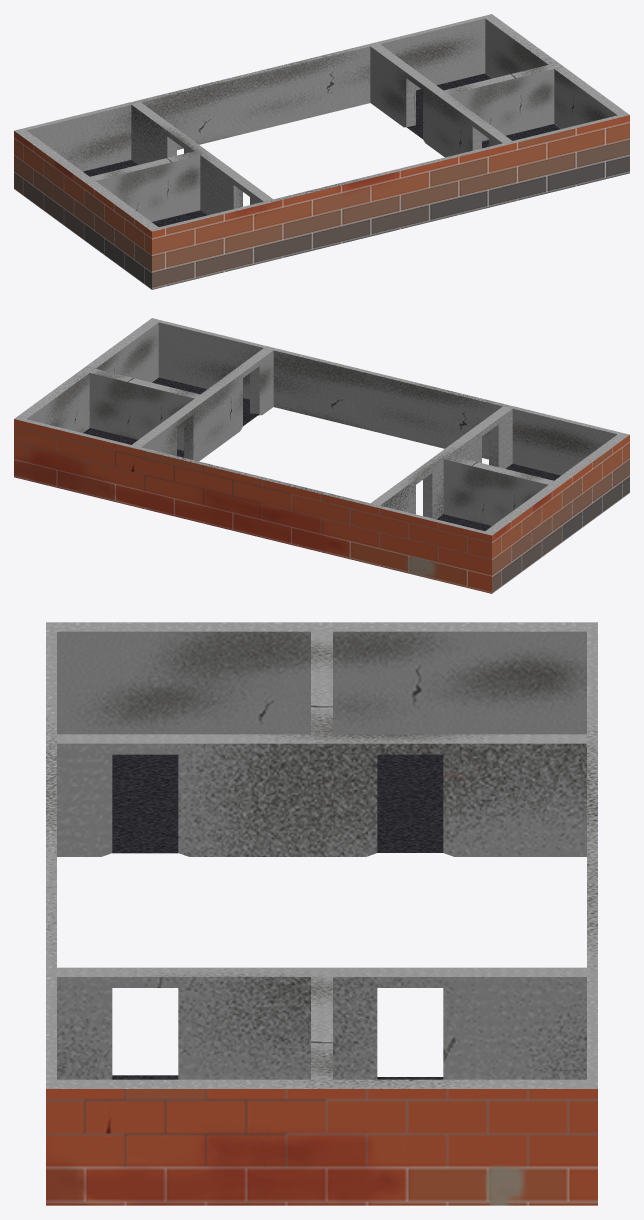
The model's file is Warehouse Floor 2.FBX.
The picture shows the model from 3 angles, top to bottom: view 1: azimuth 30°, elevation 25°; view 2: azimuth 150°, elevation 25°; view 3: azimuth 270°, elevation 25°; orthographic projection. The views are drawn at different scales.
Parts seen in each view (by area): view 1: Box001; view 2: Box001; view 3: Box001.
Part boxes in pixels (bbox=[...]): Box001: bbox=[14, 14, 629, 289]; Box001: bbox=[14, 318, 629, 593]; Box001: bbox=[46, 622, 597, 1205].
Size of the model in its own units: 100000 by 11650 by 50000.
Materials: 1 (1 with a texture image).
